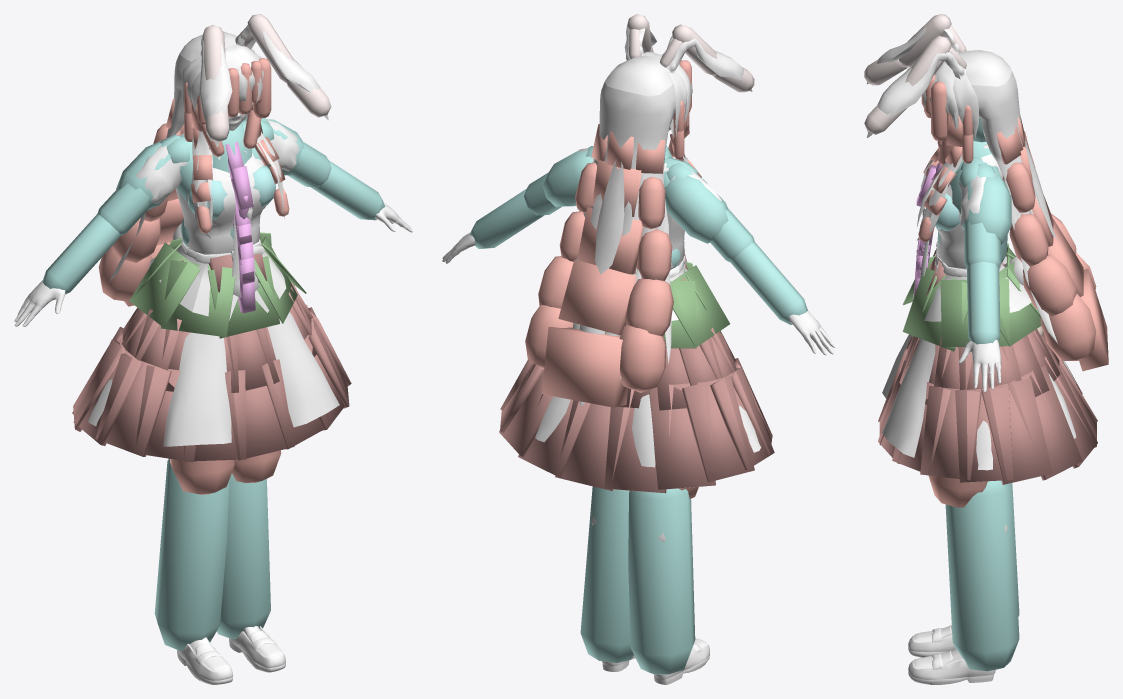
The model's file is Reisen.fbx.
The picture shows the model from 3 angles, left to right: view 1: azimuth 30°, elevation 25°; view 2: azimuth 150°, elevation 25°; view 3: azimuth 270°, elevation 25°; orthographic projection.
Visible parts, largest first — view 1: —éåEUEƒCƒiƒo ®Žì“` 4 10.001_mesh, 00P_右ひざ, 00M_左ひざ, 043_スカート_2_13, 03Q_スカート_2_0, 00Z_右ひじ, 02R_裾_0_6, 02S_裾_0_7, 042_スカート_2_12, 00U_左ひじ, 044_スカート_2_14, 00Y_右腕 (+25 smaller); view 2: —éåEUEƒCƒiƒo ®Žì“` 4 10.001_mesh, 00P_右ひざ, 00M_左ひざ, 01M_bh5, 040_スカート_2_10, 01L_bh4, 041_スカート_2_11, 03Y_スカート_2_8, 00X_右袖, 03Z_スカート_2_9, 00Z_右ひじ, 01R_bhr5 (+26 smaller); view 3: —éåEUEƒCƒiƒo ®Žì“` 4 10.001_mesh, 00M_左ひざ, 03V_スカート_2_5, 03T_スカート_2_3, 03U_スカート_2_4, 03W_スカート_2_6, 00U_左ひじ, 01W_bhl5, 02N_裾_0_2, 01V_bhl4, 00T_左袖, 02M_裾_0_1 (+28 smaller).
Boxes of the visible parts, bbox=[...] form: —éåEUEƒCƒiƒo ®Žì“` 4 10.001_mesh: bbox=[14, 25, 413, 684]; 00P_右ひざ: bbox=[154, 458, 229, 650]; 00M_左ひざ: bbox=[216, 473, 270, 639]; 043_スカート_2_13: bbox=[95, 353, 171, 456]; 03Q_スカート_2_0: bbox=[225, 359, 294, 460]; 00Z_右ひじ: bbox=[42, 214, 121, 294]; 02R_裾_0_6: bbox=[130, 242, 200, 328]; 02S_裾_0_7: bbox=[160, 260, 235, 337]; 042_スカート_2_12: bbox=[73, 339, 142, 445]; 00U_左ひじ: bbox=[310, 160, 384, 220]; 044_スカート_2_14: bbox=[134, 365, 196, 462]; 00Y_右腕: bbox=[97, 134, 180, 235]; —éåEUEƒCƒiƒo ®Žì“` 4 10.001_mesh: bbox=[442, 27, 835, 684]; 00P_右ひざ: bbox=[628, 488, 695, 674]; 00M_左ひざ: bbox=[580, 486, 633, 662]; 01M_bh5: bbox=[542, 327, 627, 407]; 040_スカート_2_10: bbox=[649, 382, 715, 489]; 01L_bh4: bbox=[558, 259, 636, 335]; 041_スカート_2_11: bbox=[682, 376, 754, 482]; 03Y_スカート_2_8: bbox=[555, 389, 634, 490]; 00X_右袖: bbox=[665, 175, 728, 243]; 03Z_スカート_2_9: bbox=[604, 384, 673, 493]; 00Z_右ひじ: bbox=[731, 242, 807, 324]; 01R_bhr5: bbox=[619, 325, 665, 392]; —éåEUEƒCƒiƒo ®Žì“` 4 10.001_mesh: bbox=[867, 27, 1076, 684]; 00M_左ひざ: bbox=[945, 480, 1019, 671]; 03V_スカート_2_5: bbox=[981, 378, 1052, 484]; 03T_スカート_2_3: bbox=[920, 386, 981, 480]; 03U_スカート_2_4: bbox=[955, 387, 1013, 482]; 03W_スカート_2_6: bbox=[1007, 365, 1082, 480]; 00U_左ひじ: bbox=[967, 261, 1000, 344]; 01W_bhl5: bbox=[1040, 293, 1096, 361]; 02N_裾_0_2: bbox=[940, 278, 1010, 347]; 01V_bhl4: bbox=[1023, 254, 1076, 316]; 00T_左袖: bbox=[962, 174, 1011, 244]; 02M_裾_0_1: bbox=[902, 267, 967, 351].
Size of the model in its own units: 1326 by 2064 by 715.
